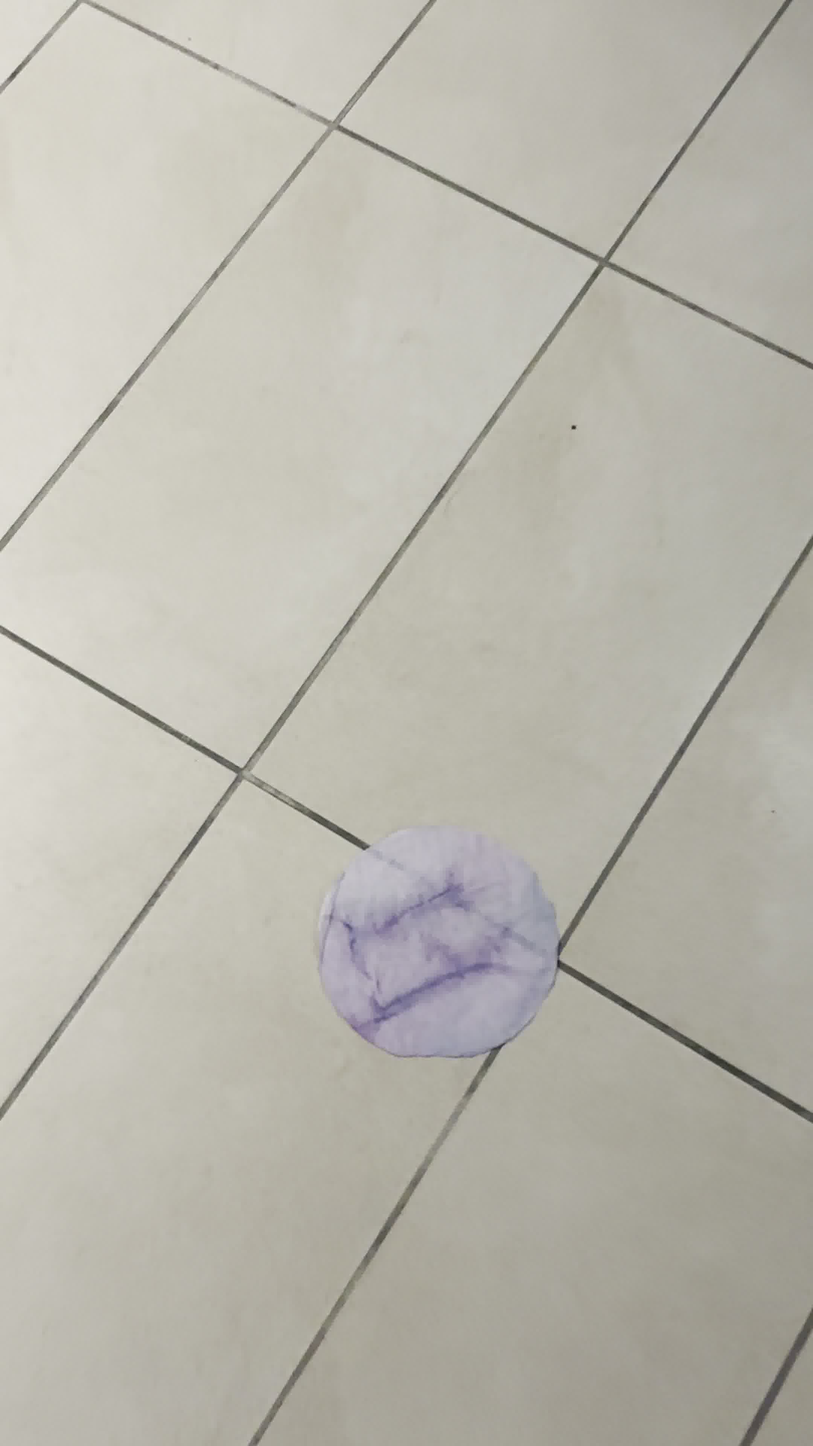Target: (314, 828, 559, 1056)
